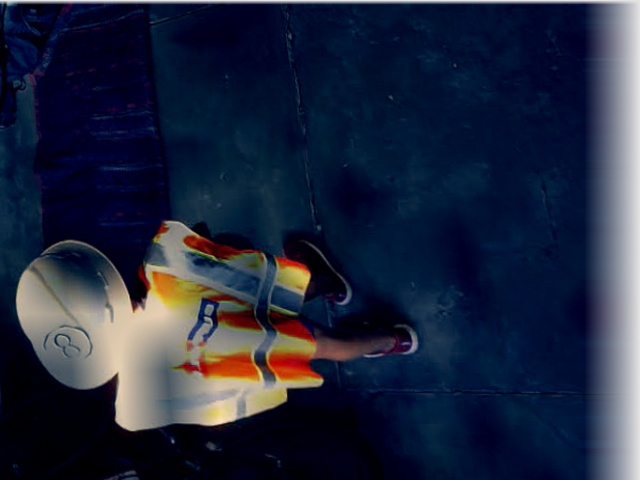eight: (40, 324, 94, 364)
